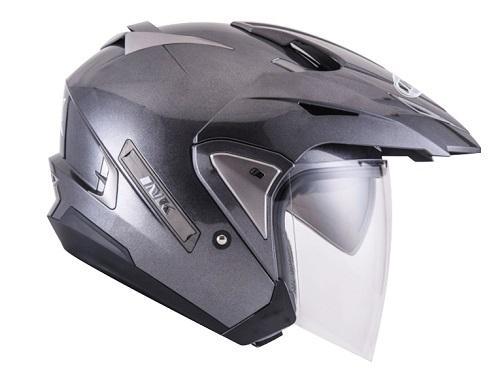helmet: (49, 12, 478, 367)
